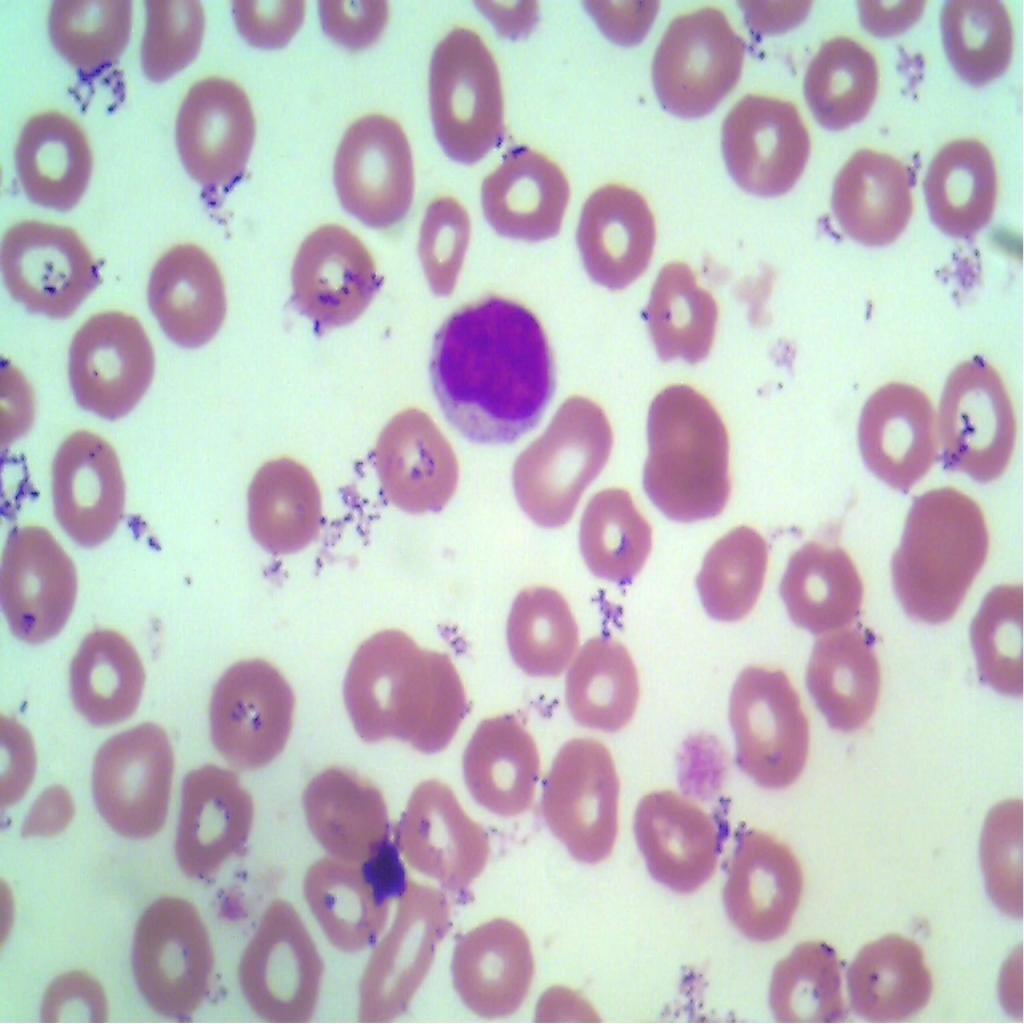Eritrosit: (358, 407, 476, 527), (713, 654, 816, 791), (706, 81, 818, 205), (511, 388, 609, 528), (356, 875, 450, 1014), (680, 515, 782, 642), (646, 1, 752, 121), (46, 421, 138, 557), (928, 352, 1022, 485), (888, 498, 982, 631), (204, 642, 301, 767), (63, 618, 164, 738), (228, 458, 334, 570), (396, 768, 488, 895), (141, 237, 238, 357), (794, 618, 892, 735), (542, 741, 628, 874), (90, 714, 174, 850), (475, 137, 571, 254), (278, 227, 388, 329), (618, 435, 736, 530), (446, 903, 539, 1023), (166, 81, 262, 197), (133, 894, 219, 1023), (424, 22, 499, 166), (711, 822, 795, 950), (170, 757, 256, 881), (826, 145, 920, 257), (0, 216, 99, 322), (571, 477, 663, 591), (64, 300, 159, 410), (629, 781, 716, 900), (346, 620, 428, 746), (0, 522, 86, 641), (564, 634, 654, 746), (291, 761, 386, 865), (330, 115, 418, 227), (791, 25, 883, 130), (923, 122, 998, 248), (450, 712, 538, 818), (570, 178, 649, 295), (390, 651, 476, 758), (303, 848, 395, 947), (244, 900, 318, 1023), (921, 0, 1011, 98), (638, 390, 738, 478), (643, 269, 726, 375), (779, 536, 874, 628), (13, 114, 101, 211), (861, 376, 936, 488), (835, 938, 933, 1023), (490, 580, 578, 674), (44, 0, 142, 75), (409, 180, 463, 298), (769, 925, 828, 1023), (971, 588, 1023, 698), (139, 0, 208, 81), (16, 779, 82, 862)
Limfosit: (428, 298, 554, 450)
